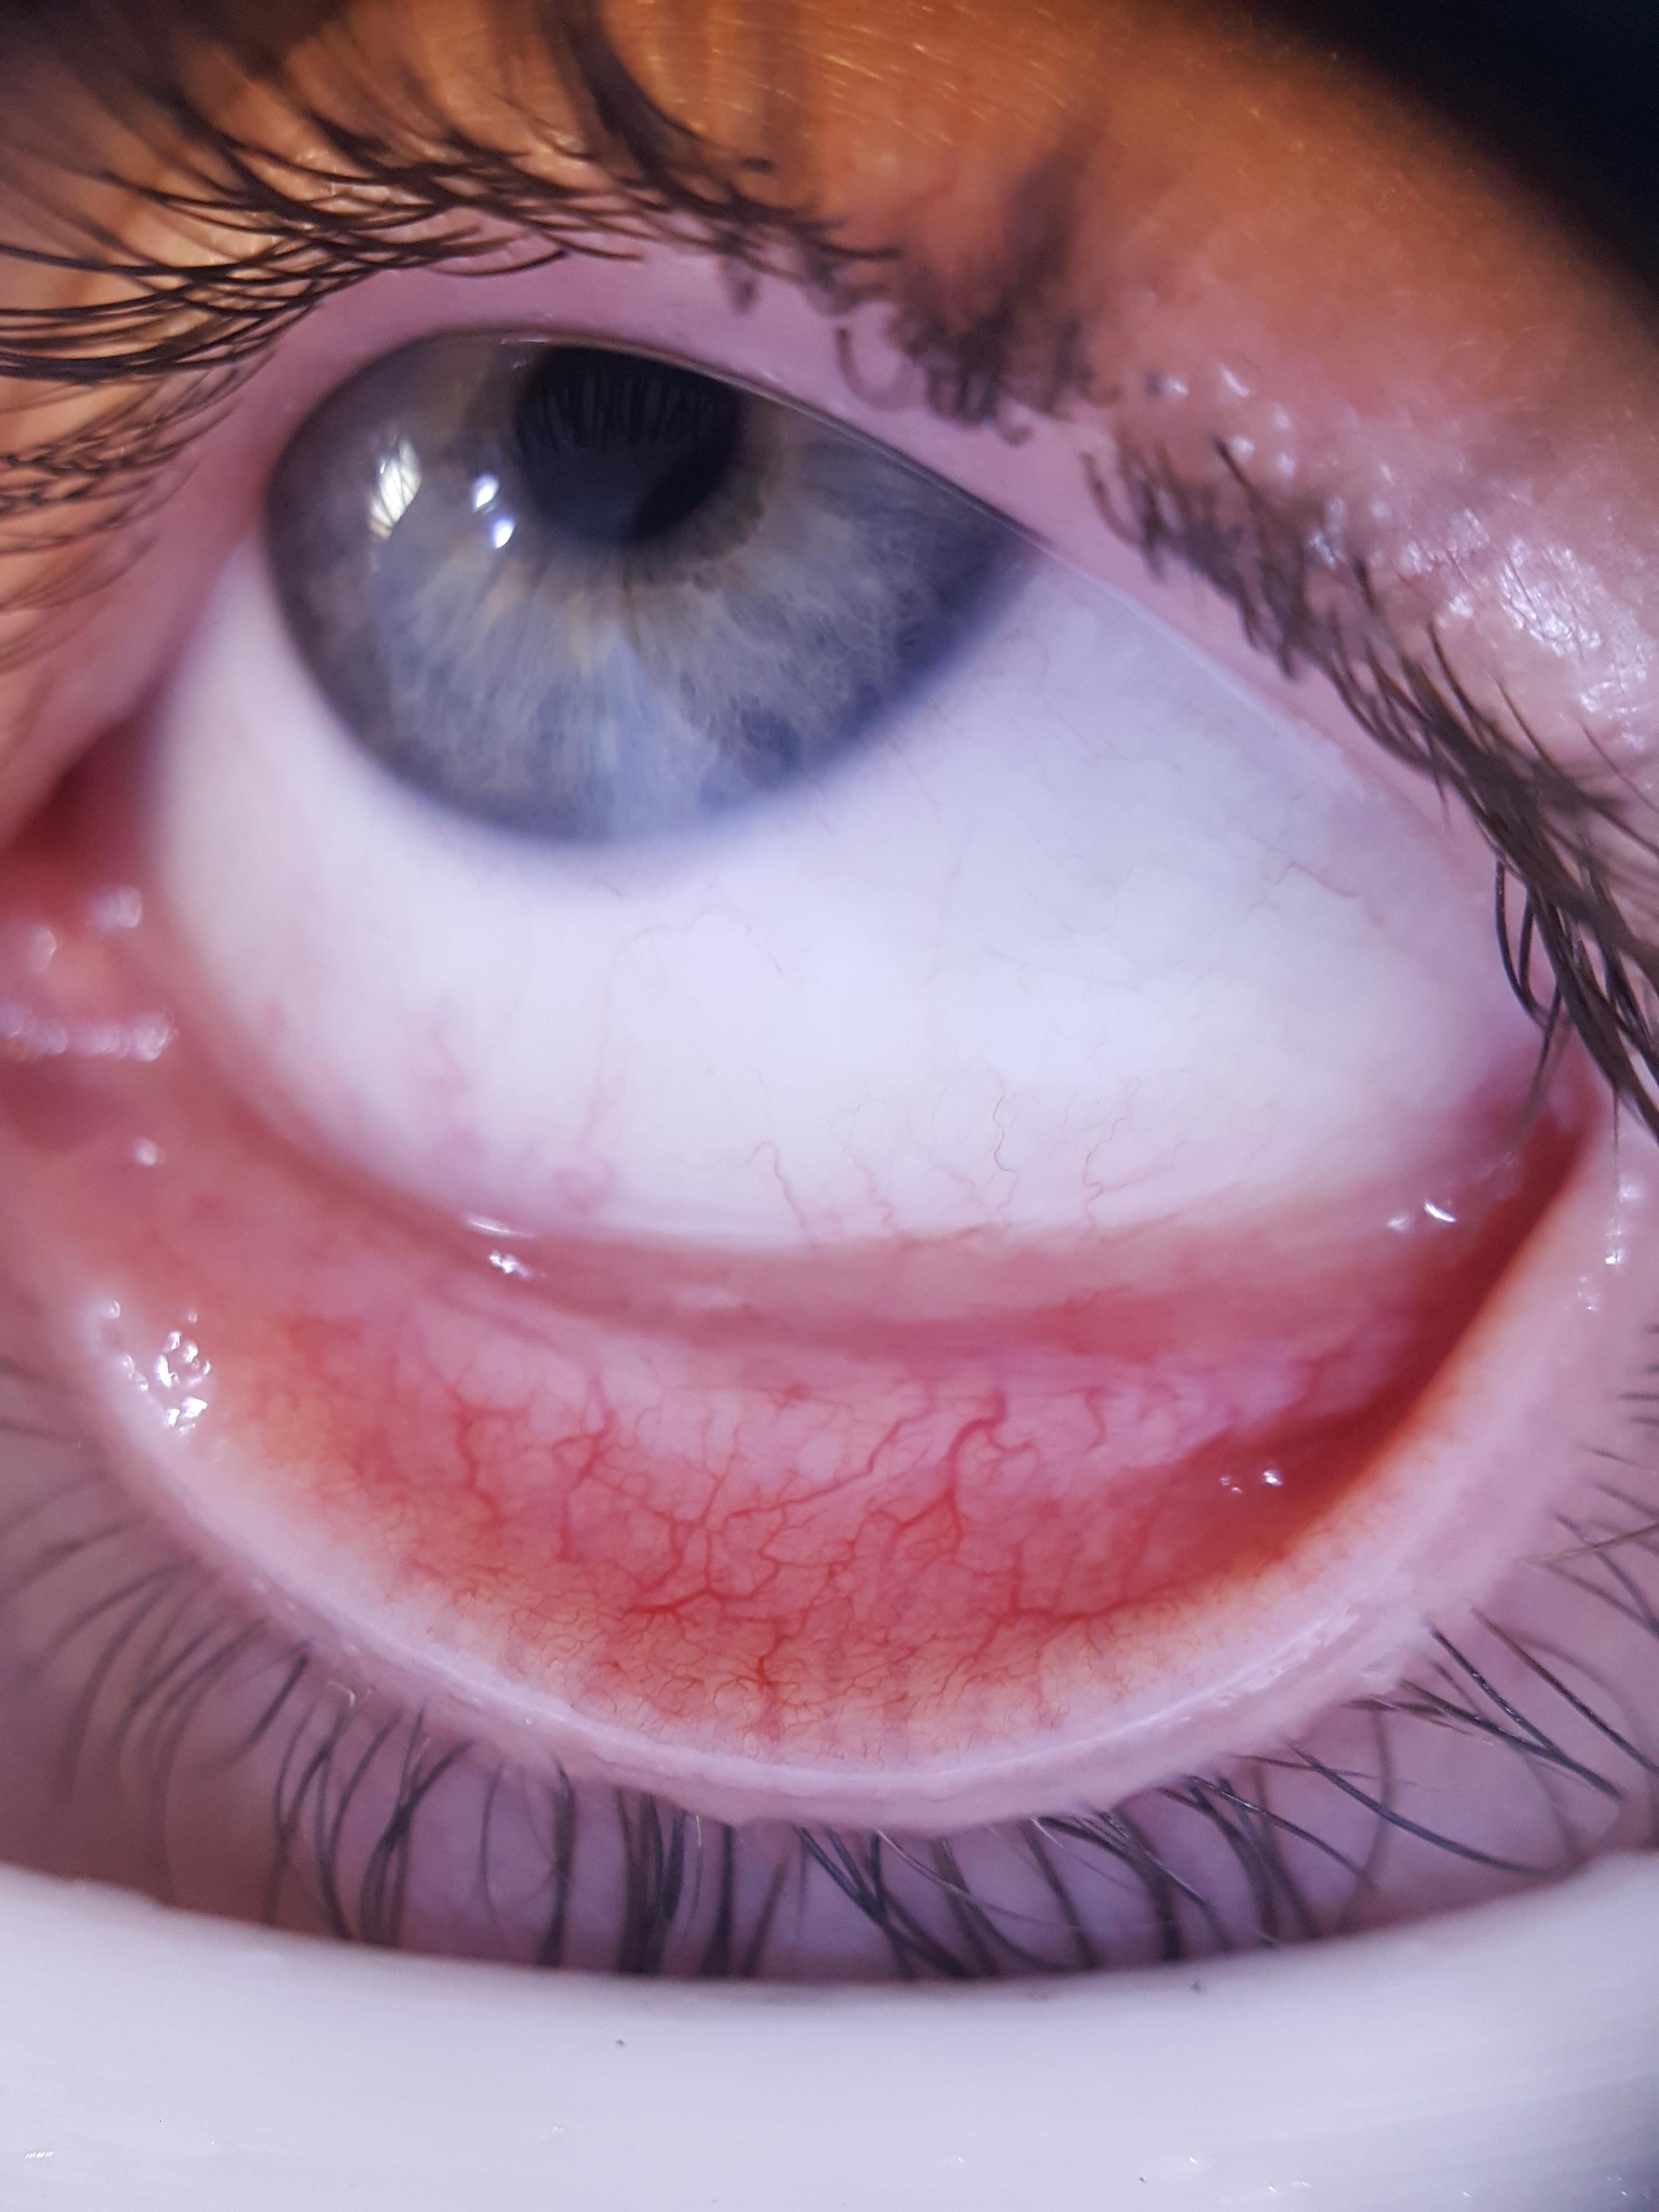forniceal: (110, 1021, 1523, 1482)
forniceal_palpebral: (2, 1003, 1593, 1693)
palpebral: (10, 1052, 1579, 1676)
